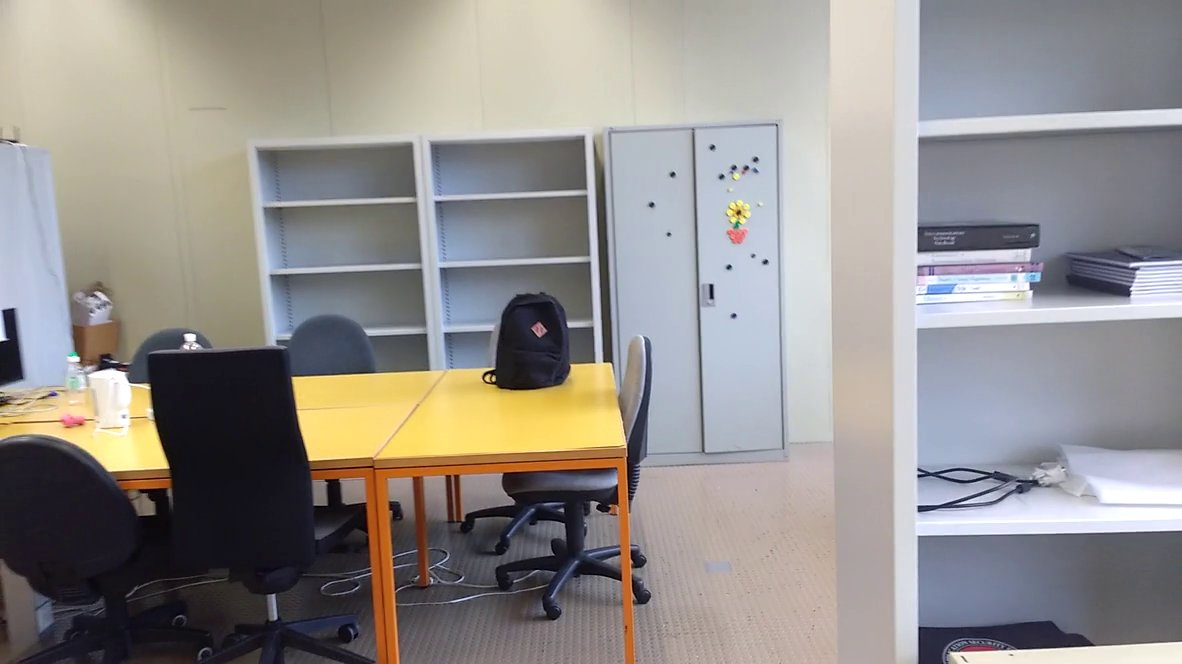bag: (478, 288, 577, 398)
chair: (140, 342, 375, 664), (487, 328, 686, 636), (1, 425, 193, 664), (269, 306, 380, 393)
